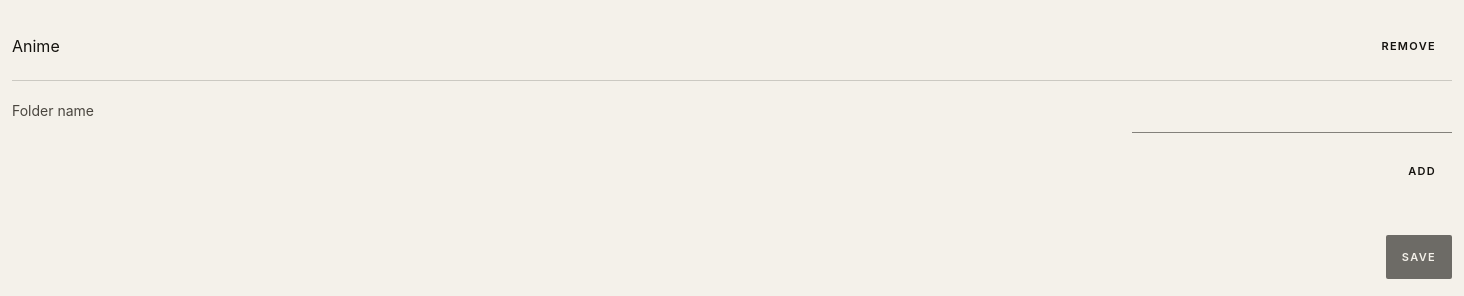
Scenario: AnimeFolders › warns that an empty list removes the Anime tab, and Discard brings the saved list back
Click the button with aria-label "Remove Anime". click: click(1409, 46)
box: [1365,24,1452,68]
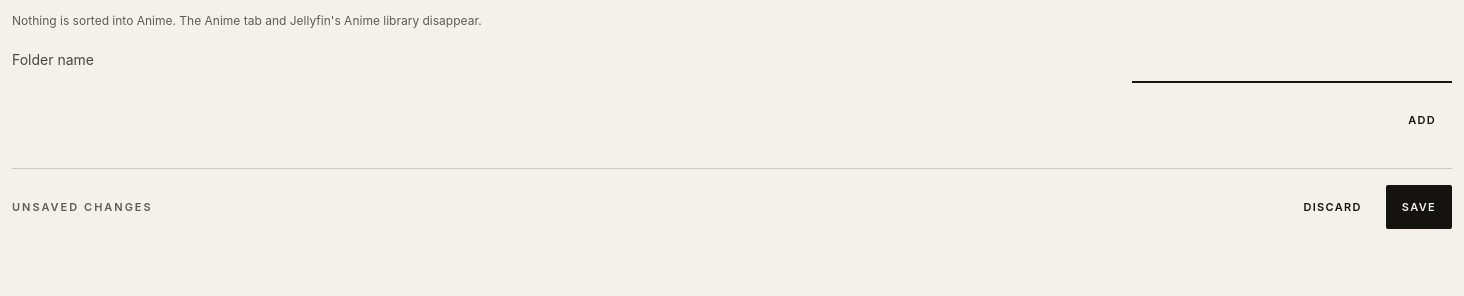
Check: the text "Nothing is sorted into Anime. The Anime tab and Jellyfin's Anime library disappear." is shown, box [12,13,482,28]
Click the button "Discard". click: click(1333, 207)
box: [1288,185,1378,229]
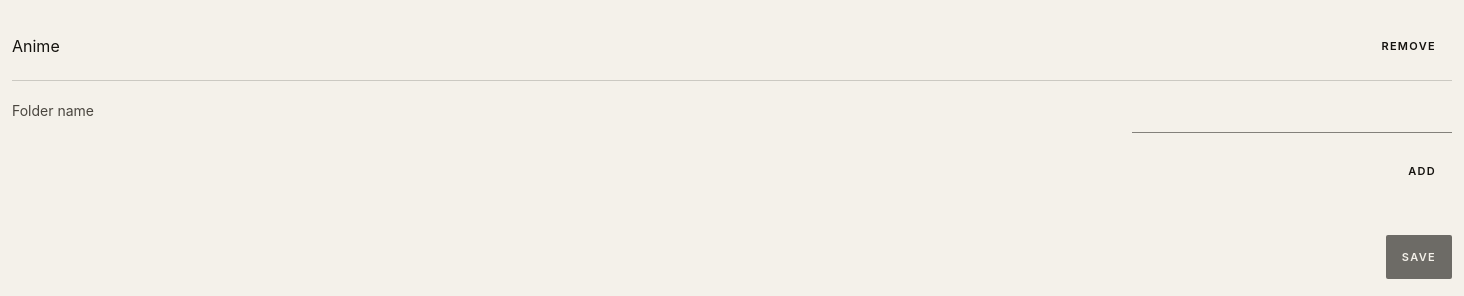
Check: the button with aria-label "Remove Anime" is shown, box [1365,24,1452,68]
